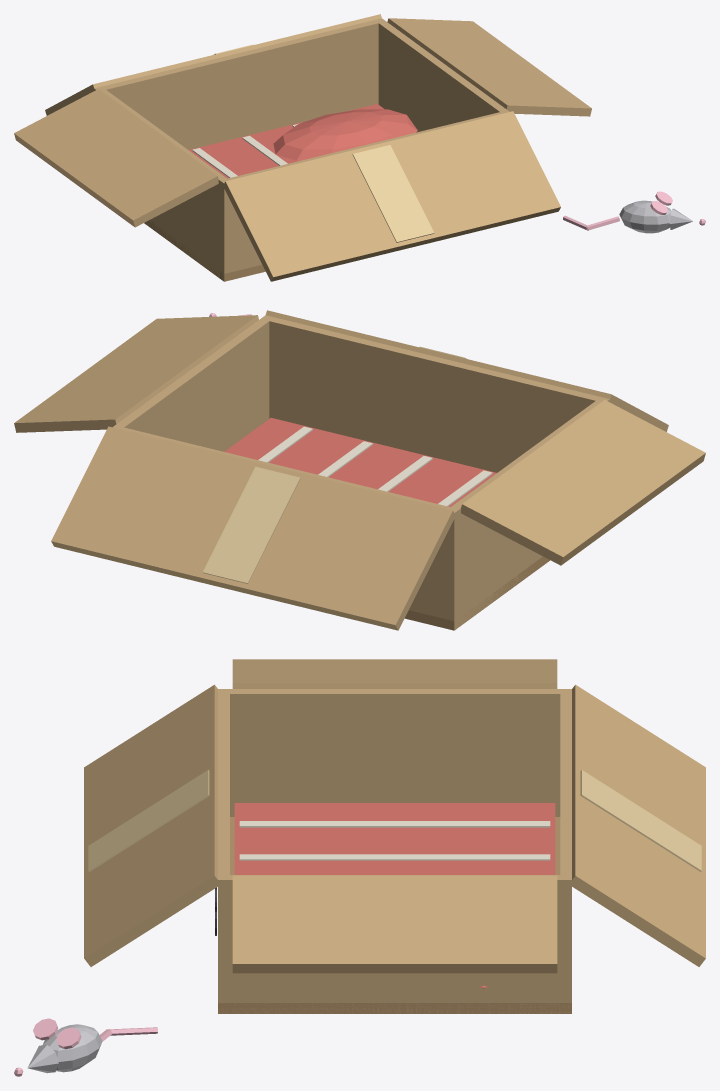
Rendered from cat_box.glb.
The picture shows the model from 3 angles, top to bottom: view 1: azimuth 30°, elevation 25°; view 2: azimuth 150°, elevation 25°; view 3: azimuth 270°, elevation 25°; orthographic projection. The views are drawn at different scales.
Parts seen in each view (by area): view 1: cat_box; view 2: cat_box; view 3: cat_box.
Part boxes in pixels (x1,y1,x2,y2): cat_box: (14,14,705,281); cat_box: (14,310,705,630); cat_box: (14,659,705,1076).
Bounding box in the file's own units: 0.9865 × 0.1947 × 0.8795.
